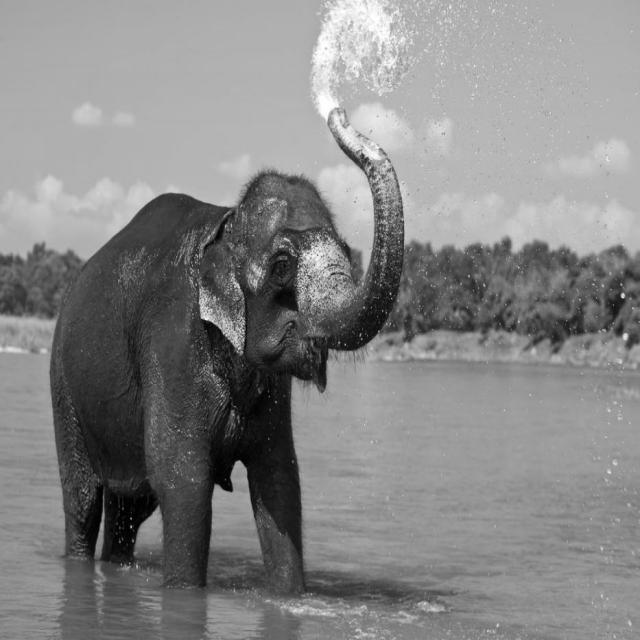Elephant: (48, 105, 404, 598)
